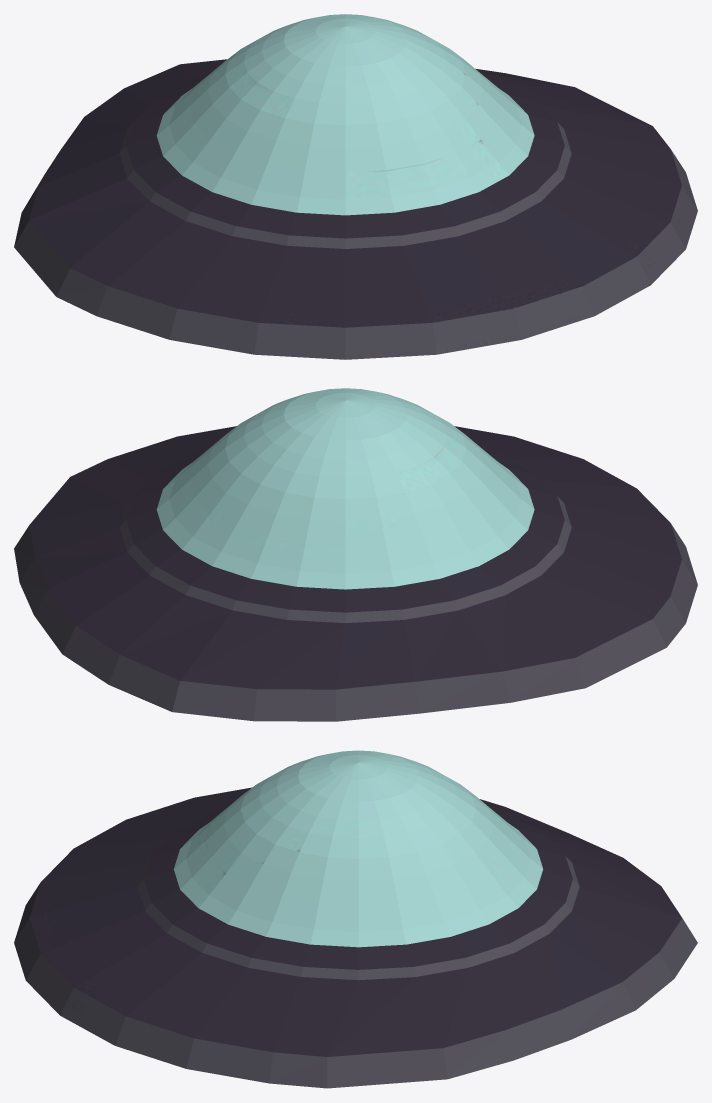
File: ufo.fbx
The picture shows the model from 3 angles, top to bottom: view 1: azimuth 30°, elevation 25°; view 2: azimuth 150°, elevation 25°; view 3: azimuth 270°, elevation 25°; orthographic projection. The views are drawn at different scales.
Visible parts, largest first — view 1: pSphere3; view 2: pSphere3; view 3: pSphere3.
Part boxes in pixels (x1,y1,x2,y2): pSphere3: (14, 14, 697, 359); pSphere3: (14, 388, 697, 721); pSphere3: (14, 750, 697, 1088).
Size of the model in its own units: 3.23 by 1.04 by 3.2.
Materials: 1 (1 with a texture image).
